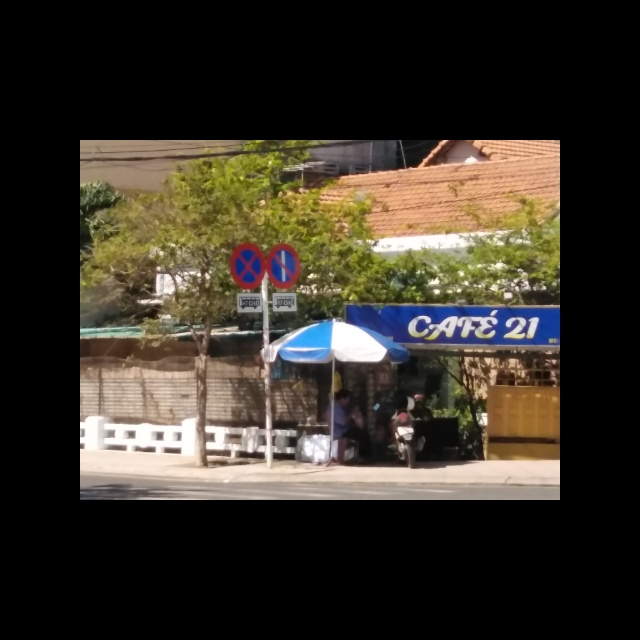Cấm dừng xe và đỗ xe: (229, 242, 266, 288)
Cấm đỗ xe ngày lẻ: (266, 242, 301, 288)
